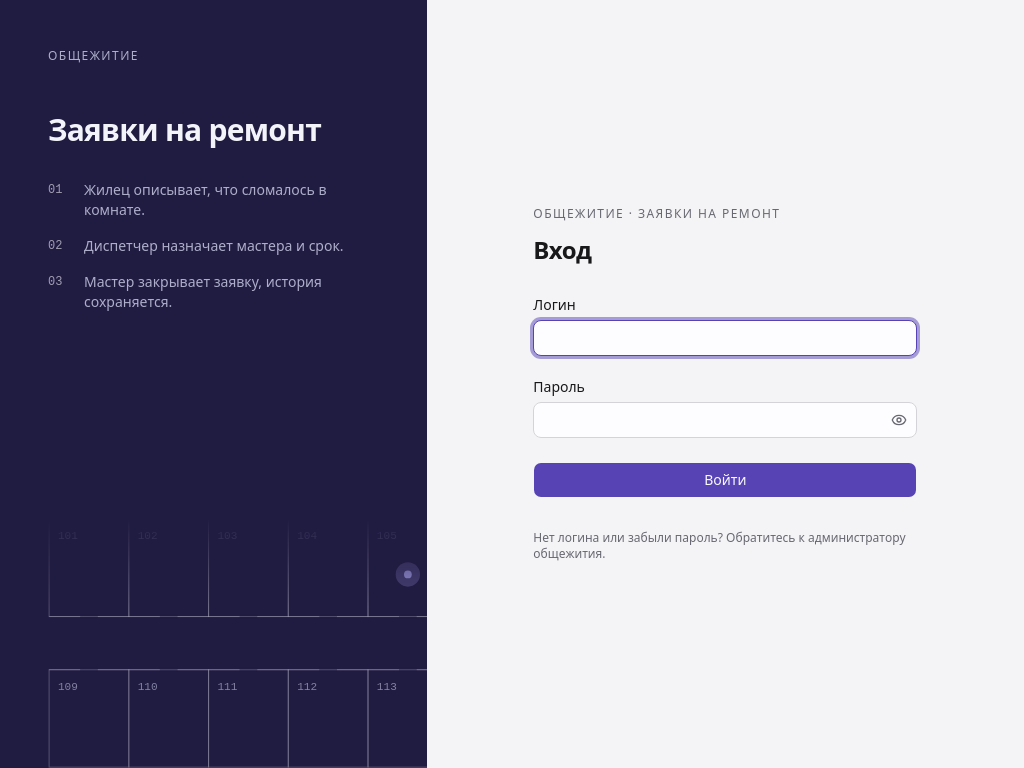
Test: shows inline error on wrong credentials
Type "ivan" into the field labelled "Логин" at x=725, y=338, box [533,320,917,356]
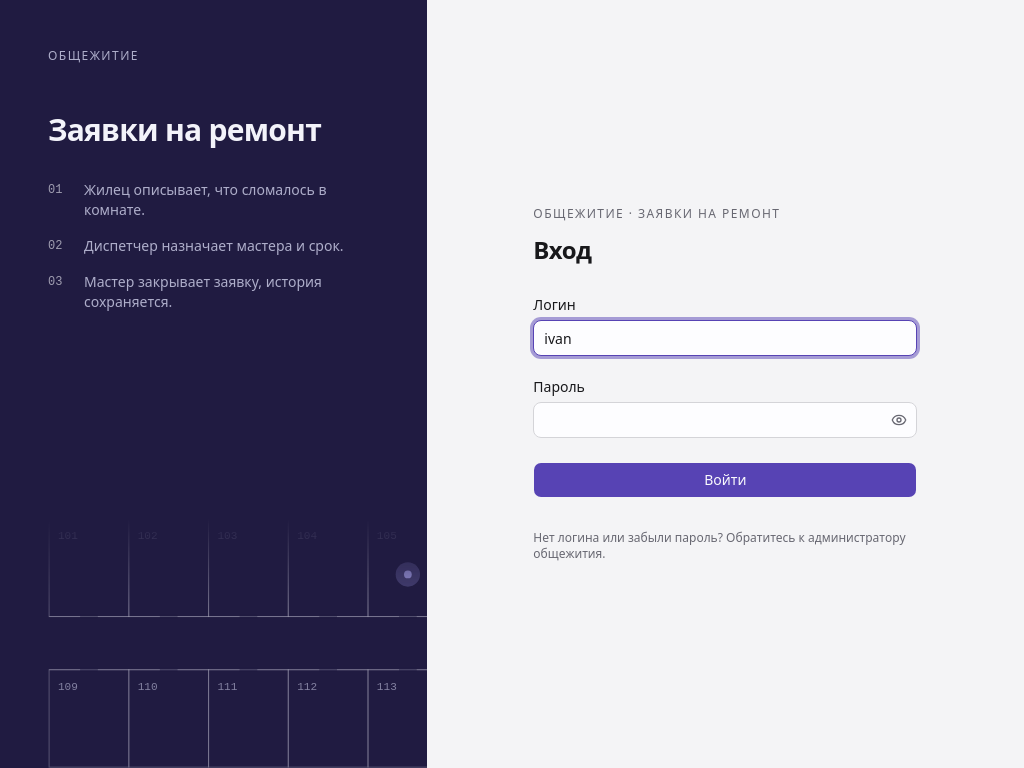
Type "wrong" into the password field labelled "Пароль" at x=725, y=420, box [533,402,917,438]
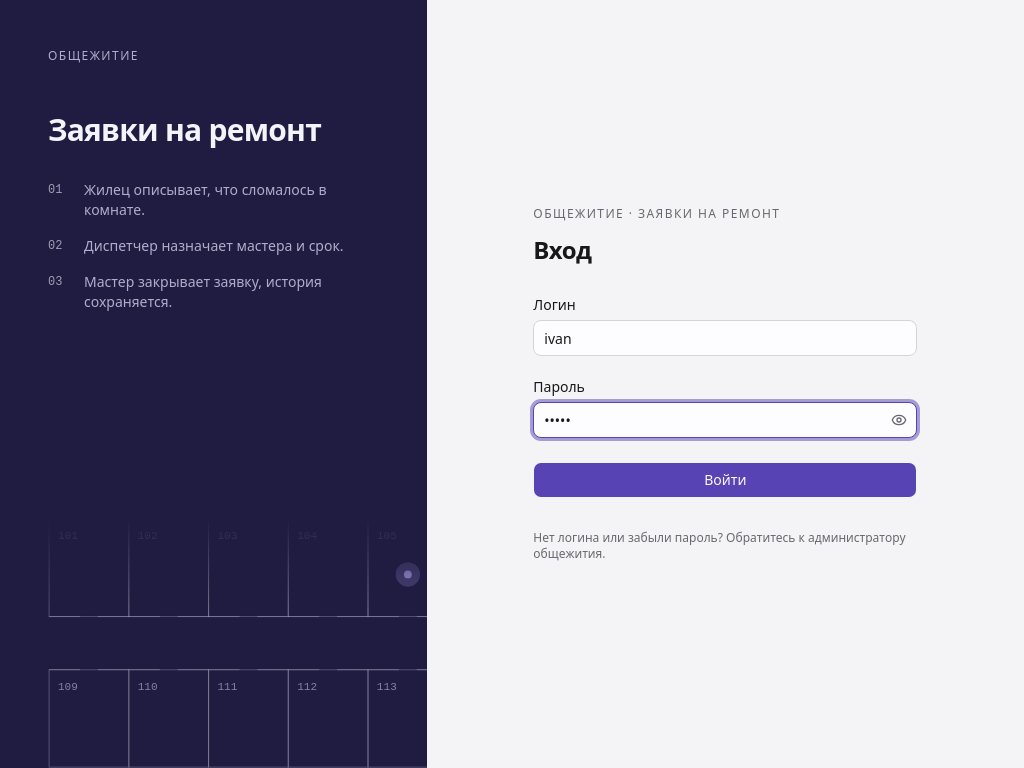
Click the button "Войти" at x=725, y=480, box [533,462,917,498]
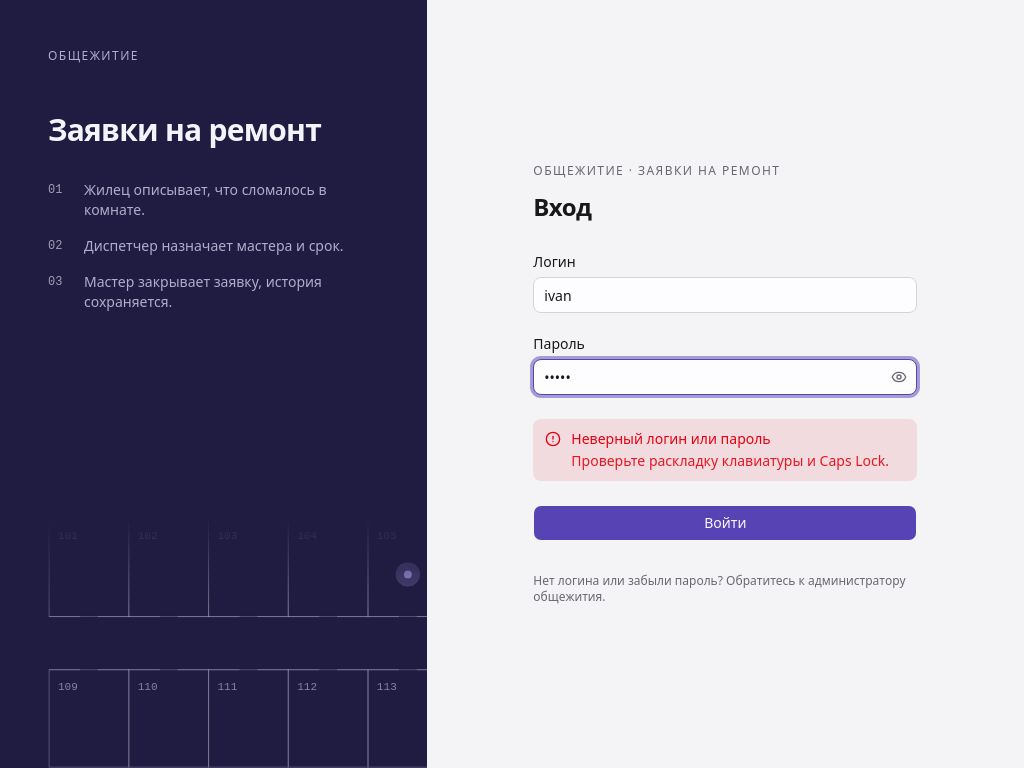
Now the message shows "Неверный логин или пароль", box [571,429,771,448]
